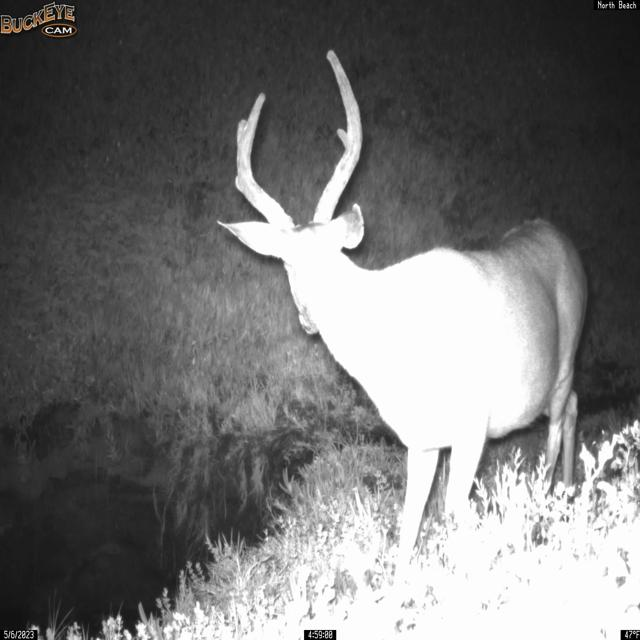deer: (216, 48, 589, 609)
